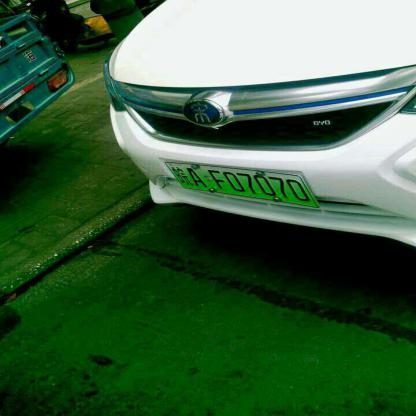lp: (162, 161, 318, 207)
